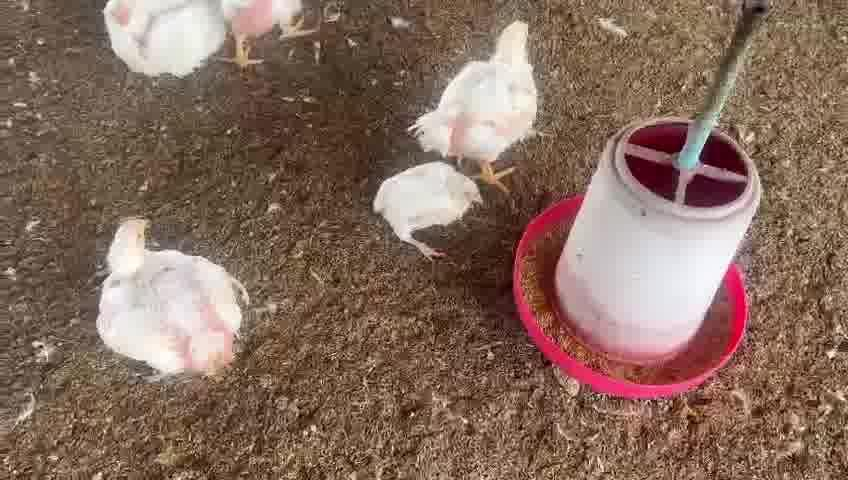AbNormal: (102, 216, 245, 380), (381, 167, 483, 258), (104, 1, 231, 74)
Normal: (426, 19, 537, 190), (220, 4, 314, 68)
